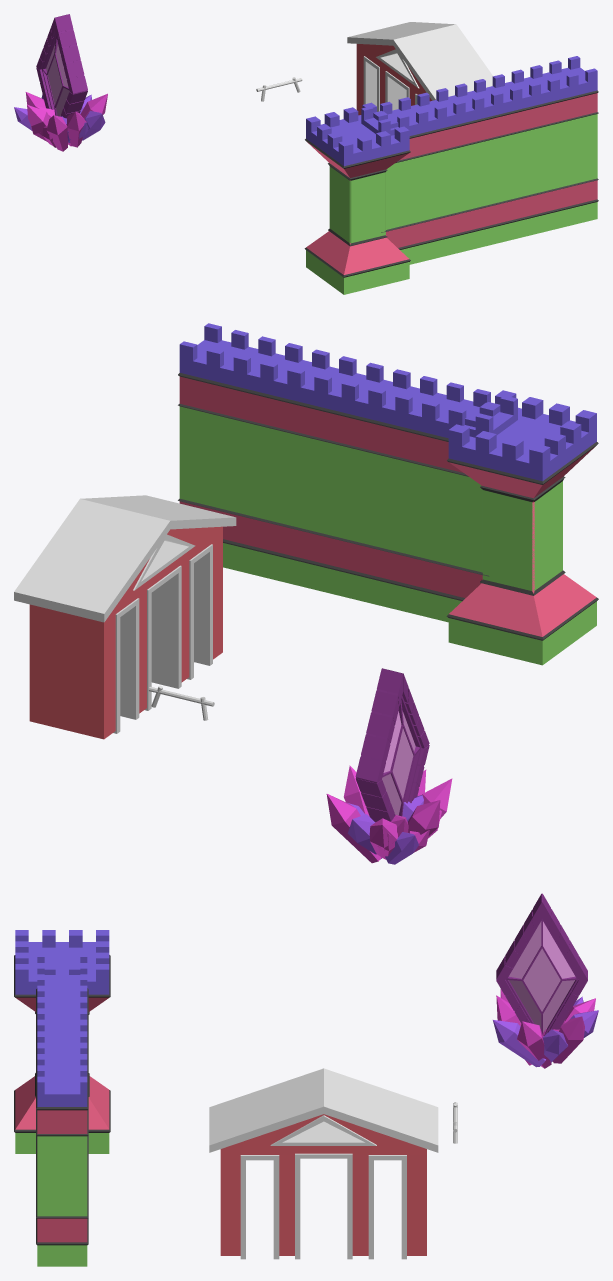
File: Pebble_Village.fbx
3 views of the same model, one above another, from view 1: azimuth 30°, elevation 25°; view 2: azimuth 150°, elevation 25°; view 3: azimuth 270°, elevation 25° (orthographic). The views are drawn at different scales.
Visible parts, largest first — view 1: WatchTower_Wall_01_Mesh.002, WatchTower_Complete_01_Mesh, Structure_MineBase, MonolithV2_02_Mesh; view 2: WatchTower_Wall_01_Mesh.002, Structure_MineBase, WatchTower_Complete_01_Mesh, MonolithV2_02_Mesh; view 3: Structure_MineBase, WatchTower_Wall_01_Mesh.002, MonolithV2_02_Mesh, WatchTower_Complete_01_Mesh.
Part boxes in pixels (x1,y1,x2,y2): WatchTower_Wall_01_Mesh.002: [361, 56, 598, 264]; WatchTower_Complete_01_Mesh: [304, 102, 410, 294]; Structure_MineBase: [347, 22, 492, 115]; MonolithV2_02_Mesh: [14, 14, 107, 151]; WatchTower_Wall_01_Mesh.002: [178, 323, 517, 622]; Structure_MineBase: [14, 495, 236, 739]; WatchTower_Complete_01_Mesh: [446, 390, 598, 665]; MonolithV2_02_Mesh: [326, 668, 452, 864]; Structure_MineBase: [209, 1068, 438, 1259]; WatchTower_Wall_01_Mesh.002: [36, 951, 88, 1266]; MonolithV2_02_Mesh: [493, 893, 598, 1068]; WatchTower_Complete_01_Mesh: [14, 930, 110, 1153].
Bounding box in the file's own units: 606 × 248 × 673.
